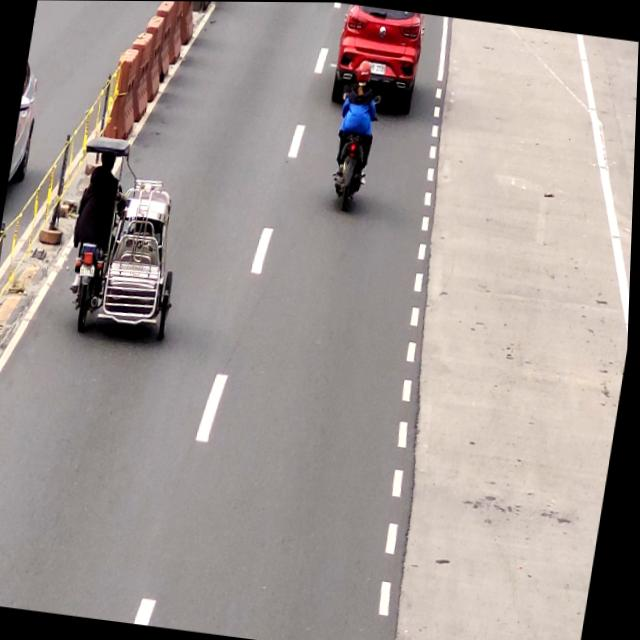Car: (332, 3, 427, 97)
License-Plate: (368, 59, 388, 78), (78, 264, 98, 281)
Motorcycle: (325, 56, 386, 212)
Tricycle: (59, 132, 199, 345)
